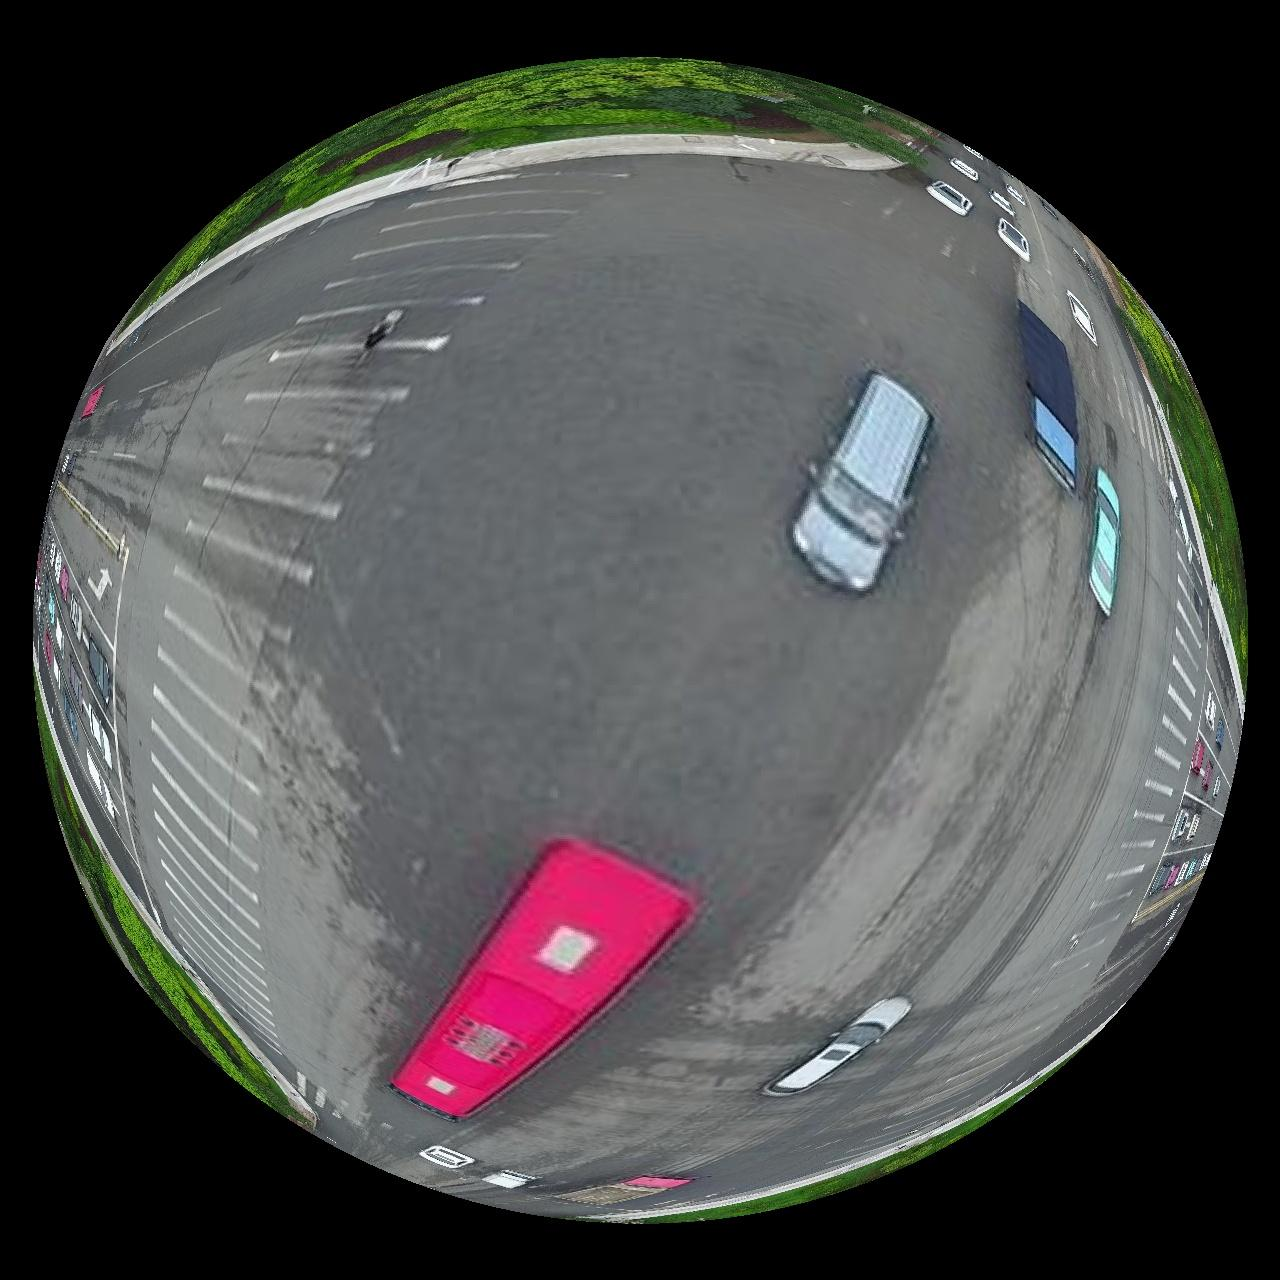cars: (392, 840, 696, 1119), (794, 372, 933, 592), (764, 998, 913, 1097), (1021, 302, 1080, 486), (1091, 468, 1123, 615), (558, 1178, 692, 1207), (84, 638, 111, 708), (418, 1148, 474, 1172), (482, 1171, 537, 1191)
trees: (123, 56, 940, 325), (35, 702, 313, 1130), (1109, 260, 1251, 678)
